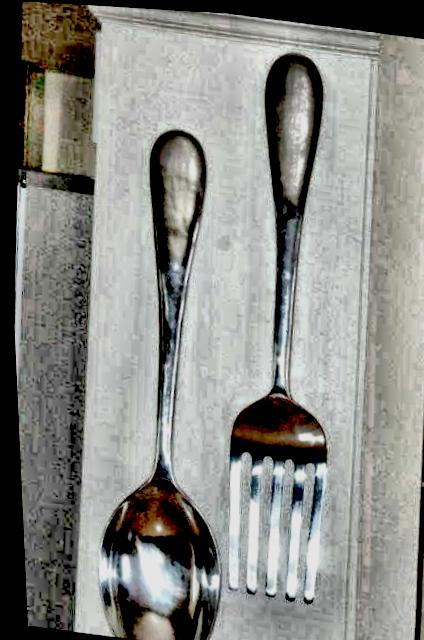Fork: (227, 55, 327, 603)
Spoon: (99, 130, 221, 639)
